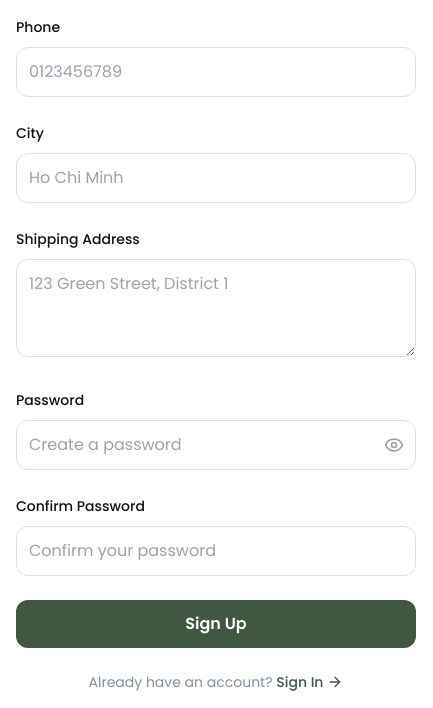
Test: RegisterPage Component › shows validation errors for empty submit
(page scrolled)
Step 1. Click the button "Sign Up" → (216, 624), box 16,600 -> 416,648
(page scrolled)
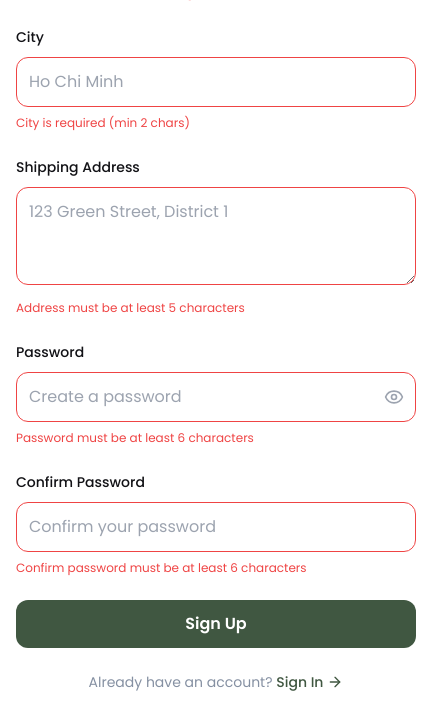
expect the text "City is required (min 2 chars)" is shown: met, box 16,114 -> 190,131
expect the text "Address must be at least 5 characters" is shown: met, box 16,299 -> 245,316
expect the text "Password must be at least 6 characters" is shown: met, box 16,429 -> 254,446
